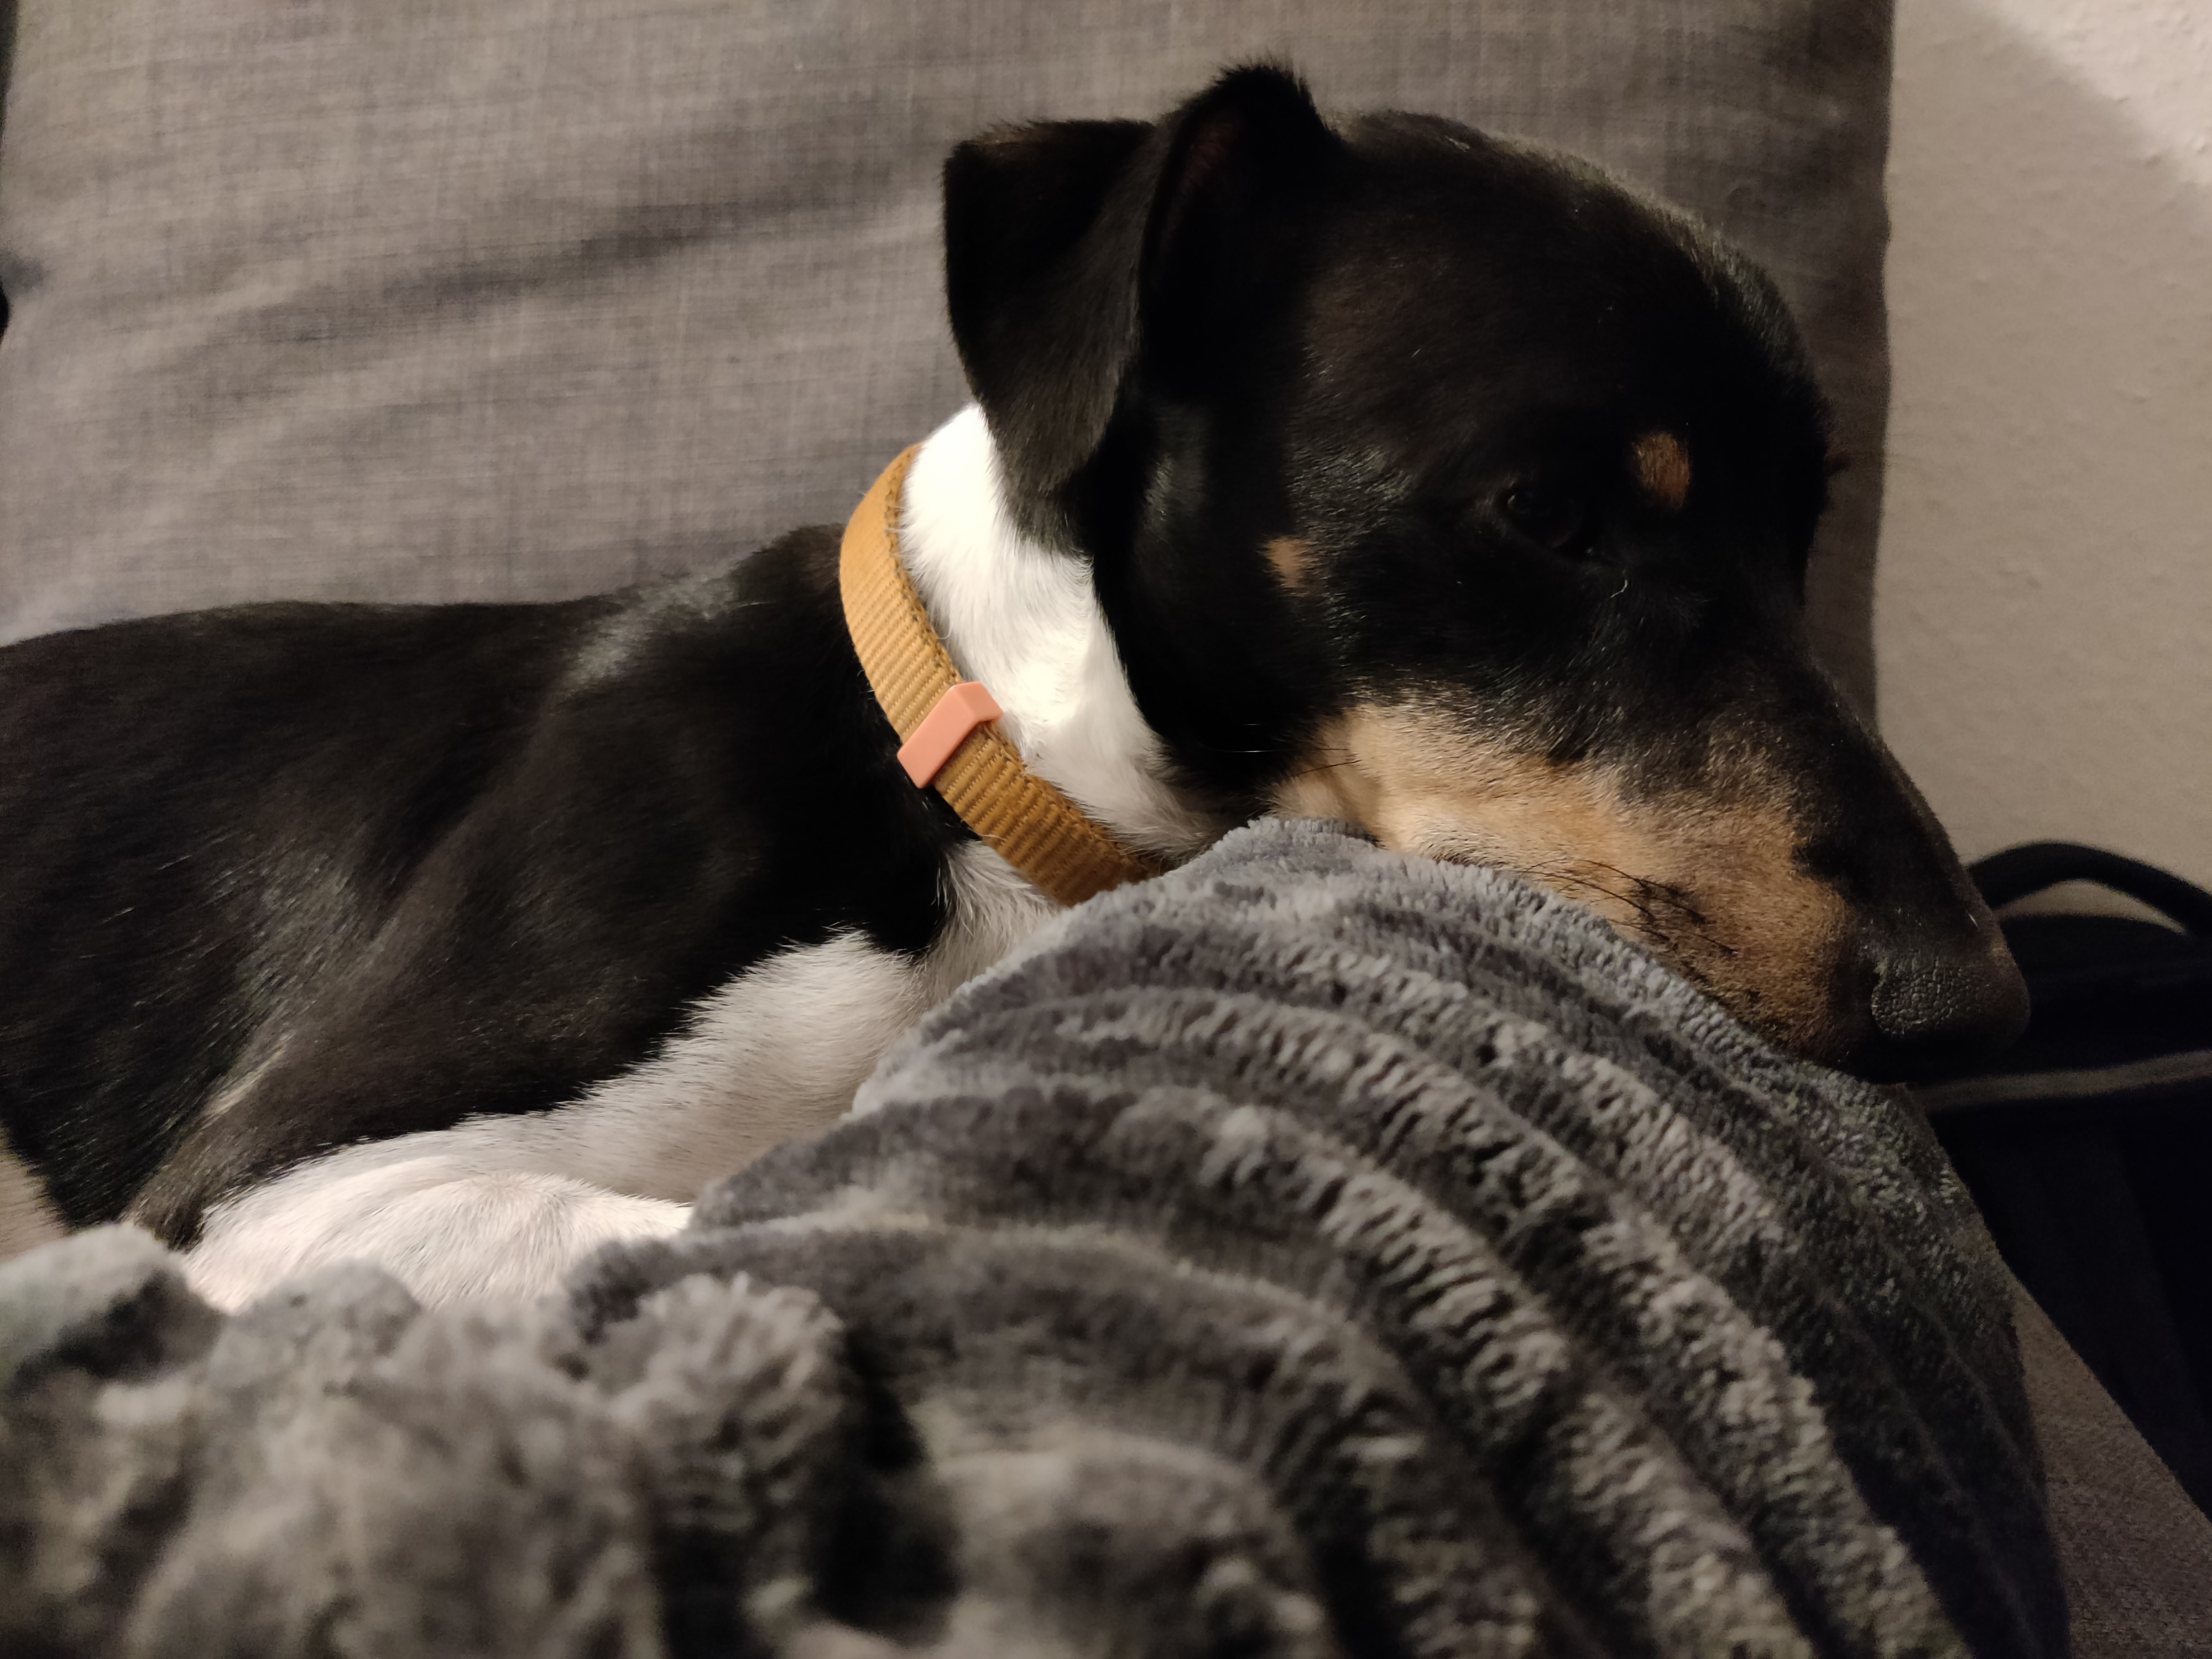Dog: (0, 52, 2040, 1342)
